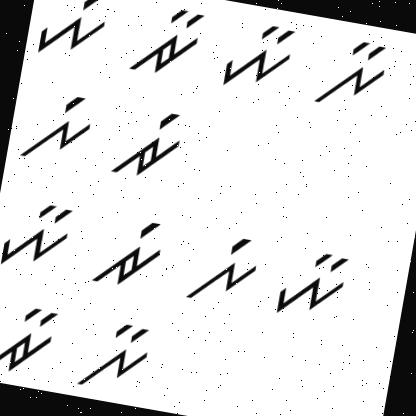lan: (68, 310, 156, 398), (307, 30, 396, 116)
lang: (178, 220, 265, 312), (16, 81, 102, 169)
ran: (127, 0, 207, 86), (0, 297, 64, 380)
rang: (105, 101, 192, 188), (86, 209, 167, 296)
yan: (266, 240, 357, 330), (212, 14, 298, 100), (0, 188, 77, 276)
yang: (31, 0, 113, 64)
